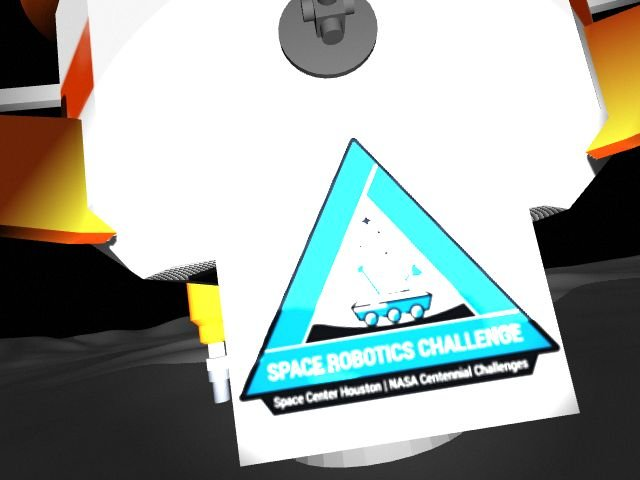basemarker: (239, 137, 561, 417)
